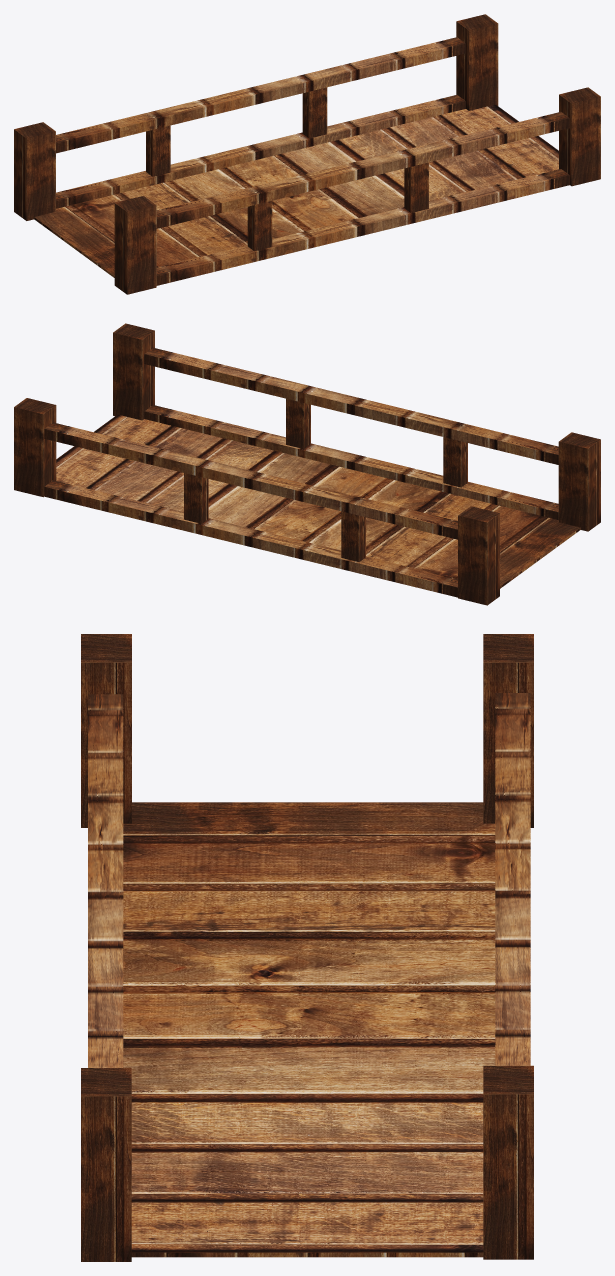
Rendered from bridge.FBX.
3 renders of one model, top to bottom at view 1: azimuth 30°, elevation 25°; view 2: azimuth 150°, elevation 25°; view 3: azimuth 270°, elevation 25°, orthographic. The views are drawn at different scales.
Visible parts, largest first — view 1: Box013, Box007, Box008, Box006, Box005, Box002, Box003, Box004, Box001, Box010, Box009, Box012 (+1 smaller); view 2: Box013, Box007, Box008, Box005, Box006, Box002, Box003, Box004, Box001, Box010, Box012, Box009 (+1 smaller); view 3: Box013, Box007, Box008, Box004, Box001, Box003, Box002.
Part boxes in pixels (left/top/right/bottom): Box013: left=34, top=104, right=558, bottom=277; Box007: left=156, top=112, right=569, bottom=228; Box008: left=56, top=37, right=465, bottom=153; Box006: left=156, top=169, right=569, bottom=285; Box005: left=56, top=95, right=465, bottom=208; Box002: left=114, top=195, right=156, bottom=294; Box003: left=14, top=122, right=55, bottom=220; Box004: left=456, top=14, right=498, bottom=110; Box001: left=559, top=87, right=600, bottom=186; Box010: left=302, top=87, right=327, bottom=138; Box009: left=247, top=201, right=272, bottom=251; Box012: left=146, top=125, right=170, bottom=176; Box013: left=56, top=414, right=580, bottom=588; Box007: left=144, top=347, right=558, bottom=464; Box008: left=44, top=422, right=457, bottom=539; Box005: left=44, top=480, right=457, bottom=597; Box006: left=144, top=405, right=558, bottom=519; Box002: left=558, top=432, right=600, bottom=531; Box003: left=458, top=506, right=499, bottom=605; Box004: left=14, top=398, right=56, bottom=497; Box001: left=113, top=323, right=154, bottom=420; Box010: left=184, top=473, right=208, bottom=523; Box012: left=341, top=511, right=365, bottom=561; Box009: left=443, top=437, right=467, bottom=487; Box013: left=123, top=802, right=495, bottom=1257; Box007: left=88, top=694, right=123, bottom=1067; Box008: left=495, top=693, right=530, bottom=1065; Box004: left=483, top=1065, right=533, bottom=1259; Box001: left=81, top=1068, right=131, bottom=1261; Box003: left=483, top=634, right=533, bottom=827; Box002: left=81, top=634, right=131, bottom=827.
Bounding box in the file's own units: 84.59 × 14.11 × 35.04.
1 material, 1 textured.
